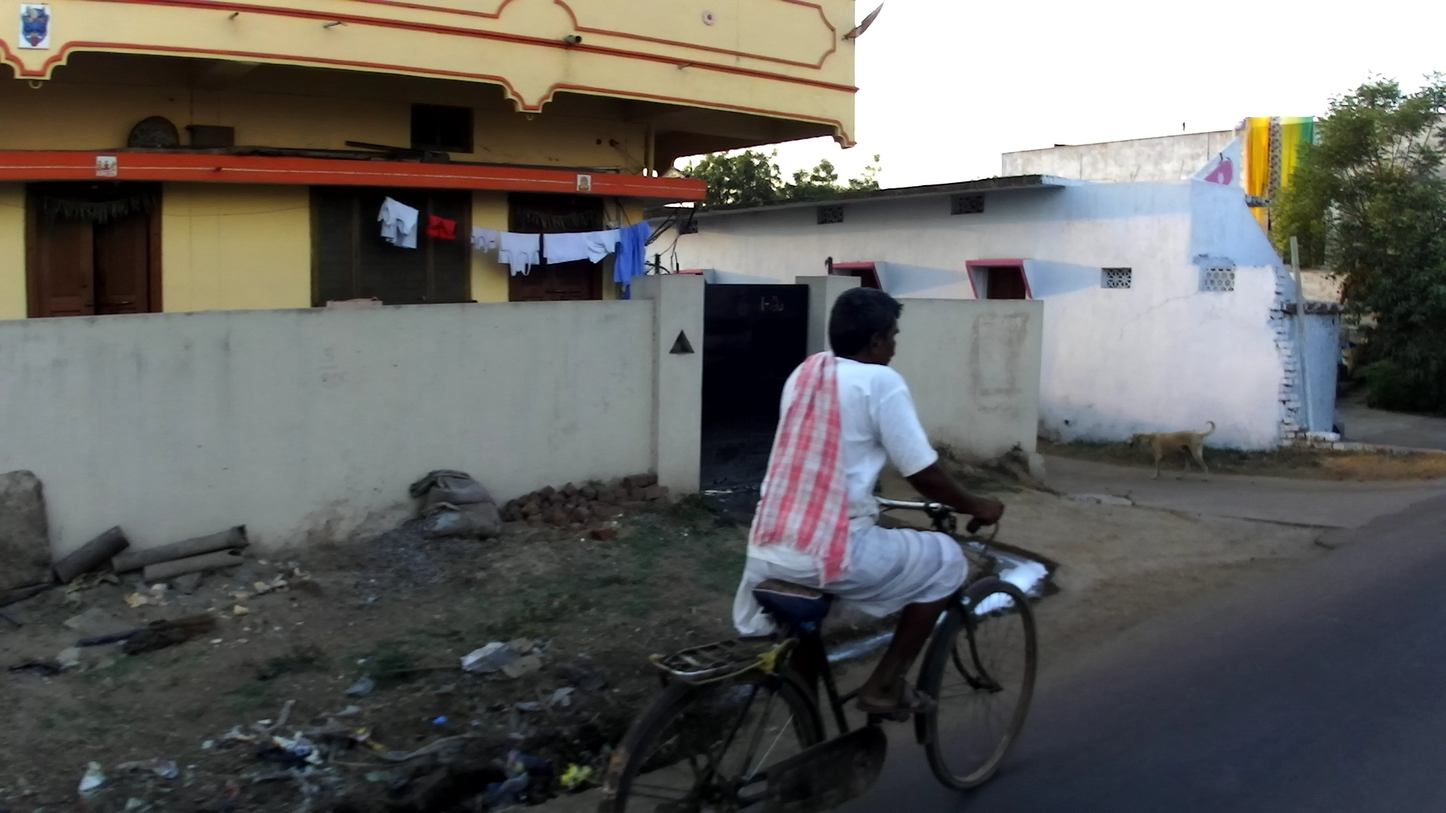animal: (1127, 419, 1219, 484)
bicycle: (596, 495, 1039, 813)
rider: (731, 285, 1005, 719)
